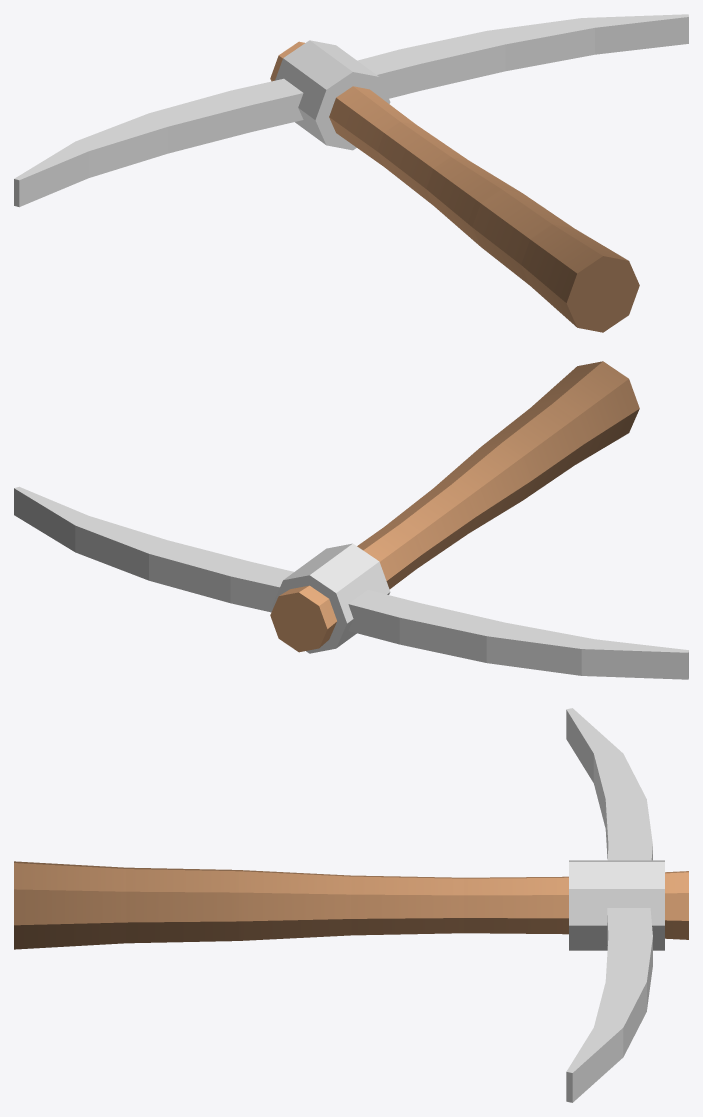
File: picareta.fbx
3 views of the same model, one above another, from view 1: azimuth 30°, elevation 25°; view 2: azimuth 150°, elevation 25°; view 3: azimuth 270°, elevation 25° (orthographic). The views are drawn at different scales.
Visible parts, largest first — view 1: base metal, madeira; view 2: base metal, madeira; view 3: madeira, base metal.
Boxes of the visible parts, box(x1,y1,x2,y2) form: base metal: box(14, 14, 688, 207); madeira: box(270, 41, 639, 332); base metal: box(14, 486, 688, 679); madeira: box(270, 361, 639, 652); madeira: box(14, 861, 688, 949); base metal: box(566, 708, 664, 1102).
Size of the model in its own units: 122 by 13.58 by 95.42.
